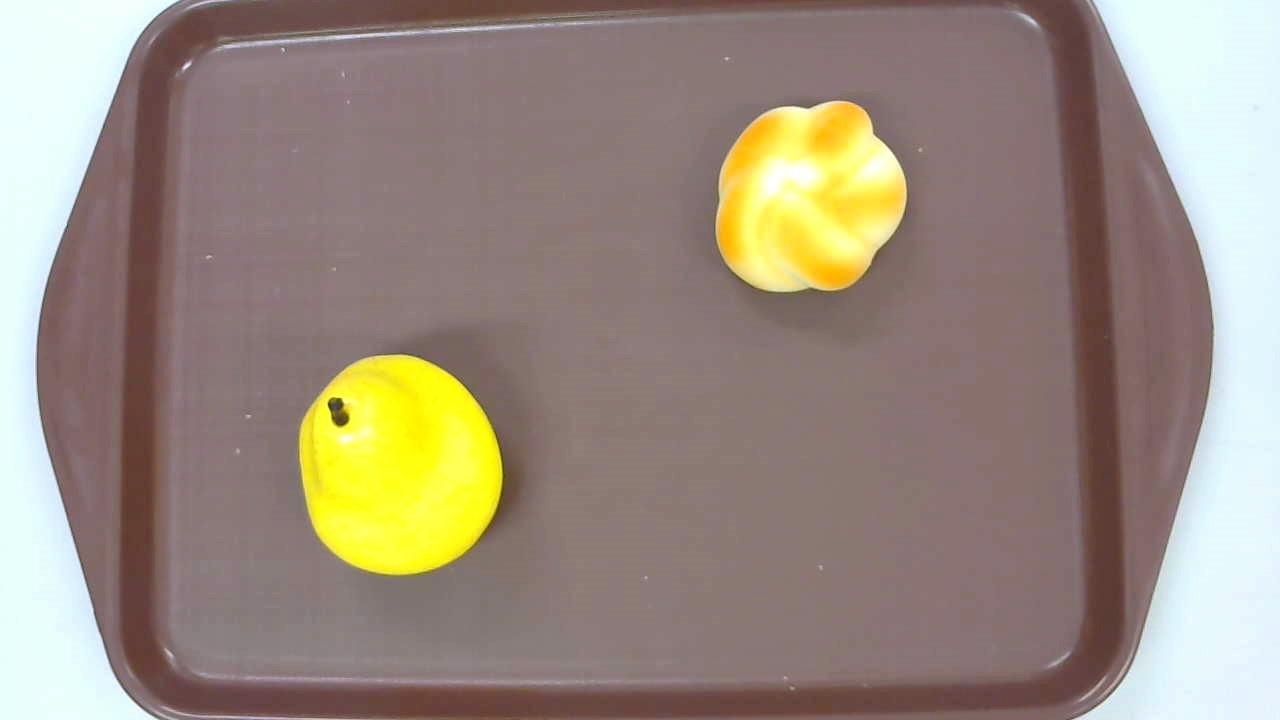twist bread: (715, 99, 907, 295)
yellow pear: (296, 353, 503, 578)
